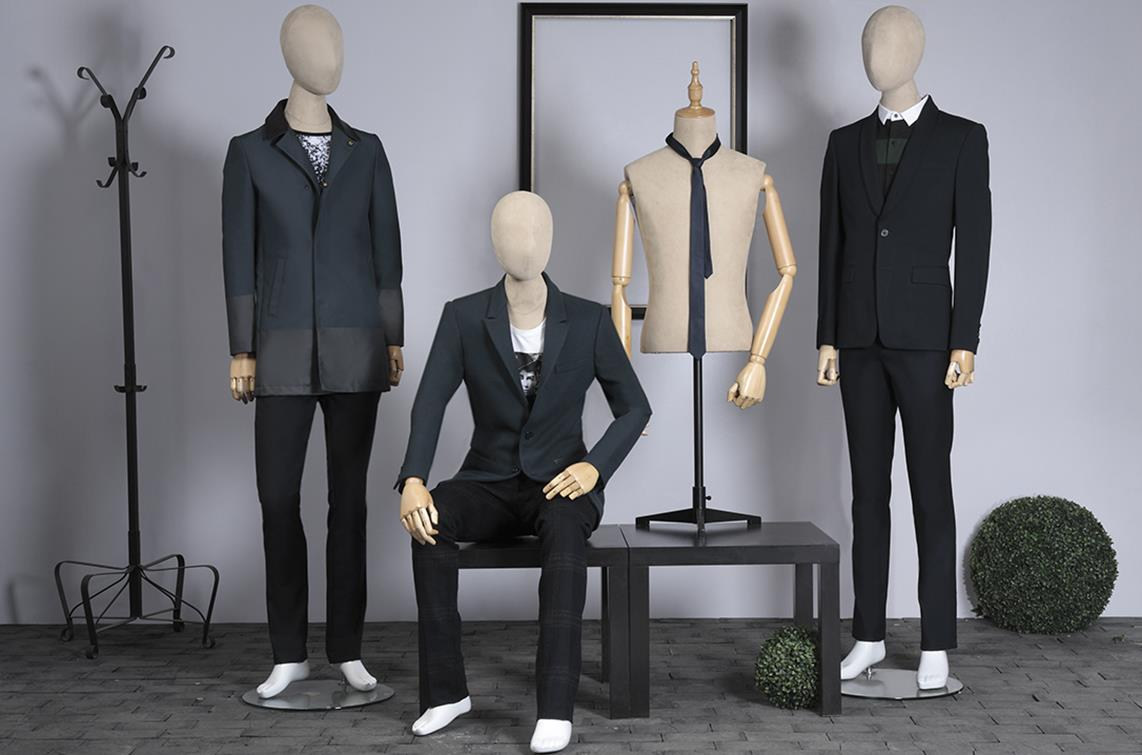person-like: (387, 179, 659, 755), (208, 1, 416, 706), (806, 1, 1002, 697), (605, 52, 803, 414)
